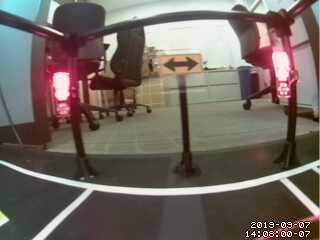Left_Right_sign: (158, 53, 207, 72)
Traffic_light_red: (271, 51, 293, 111), (52, 70, 71, 122)
